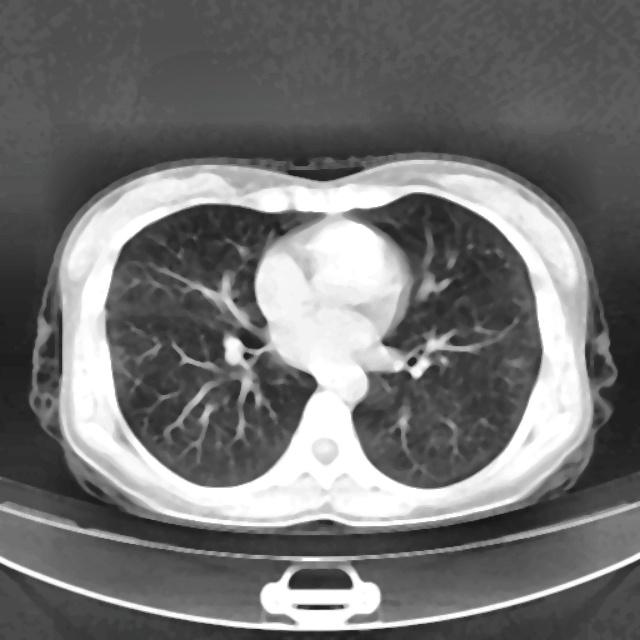covid: (28, 151, 617, 535)
